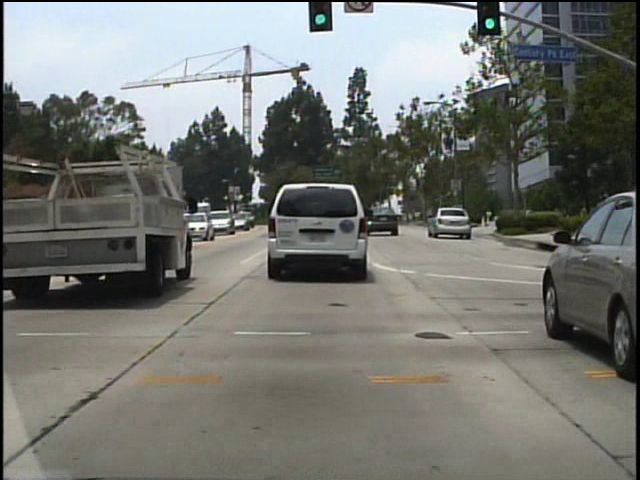person: (409, 199, 423, 224)
